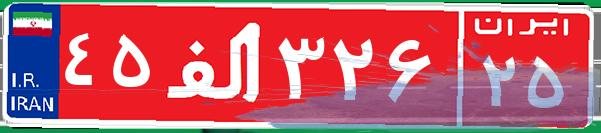2: (330, 28, 385, 110), (475, 38, 525, 113)
3: (273, 28, 330, 110)
4: (57, 26, 110, 107)
5: (110, 28, 158, 105), (525, 38, 570, 115)
6: (385, 28, 445, 110)
الف: (158, 15, 273, 115)
